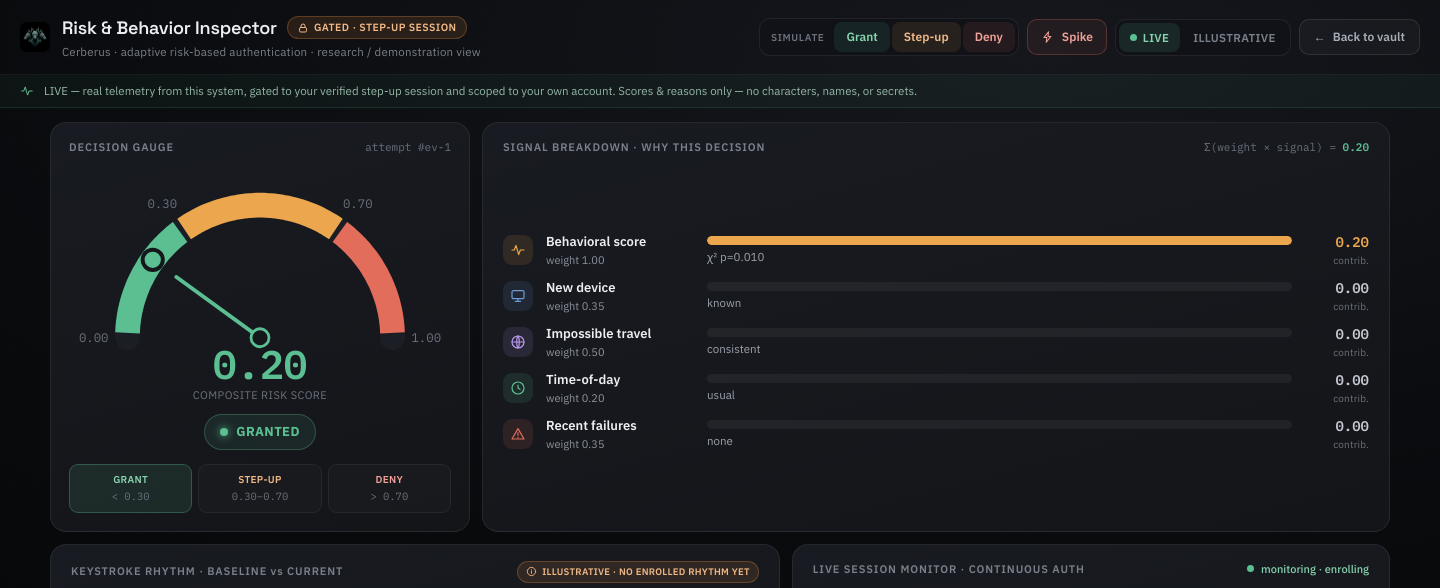
Scenario: RiskDashboard — mode toggle & illustrative labelling › Simulate acts in ILLUSTRATIVE mode (switches in, injects a simulated attempt)
This screenshot has width=1440, height=588.
Check: the text "real telemetry" is shown, box [44, 83, 917, 98]
Click the button "Deny".
click(989, 37)  # box [963, 22, 1015, 52]
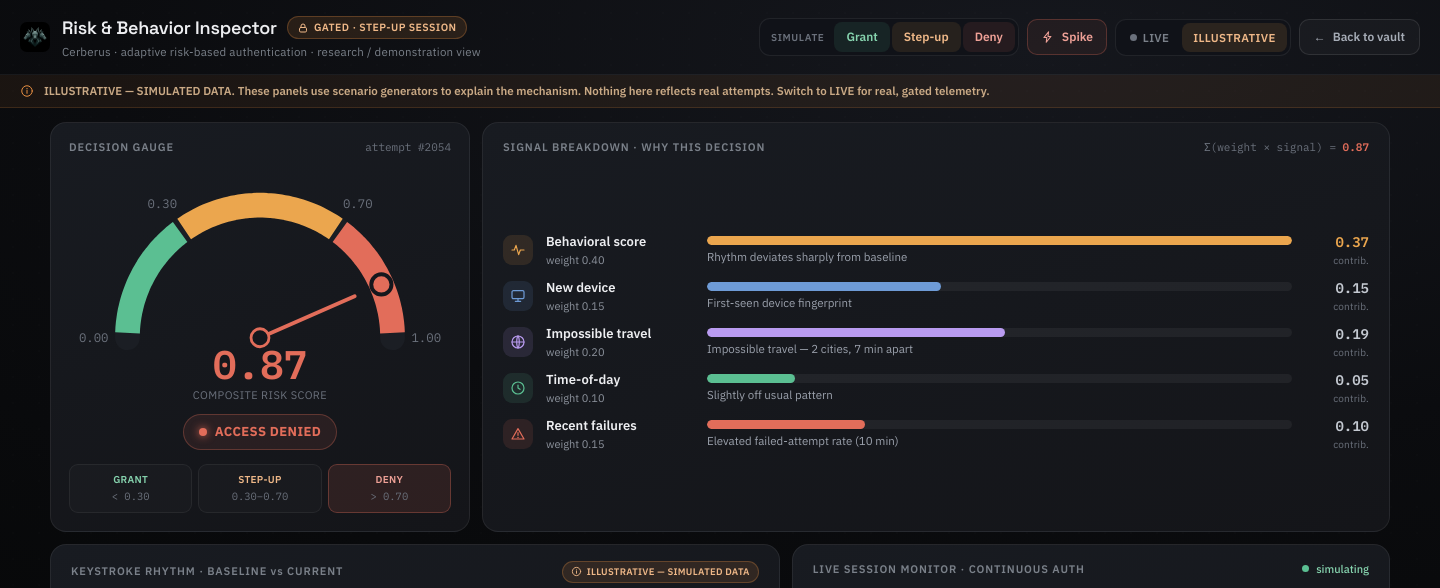
Check: the text "scenario generators" is shown, box [44, 83, 990, 98]
Check: the text "ACCESS DENIED" is shown, box [215, 422, 321, 442]
